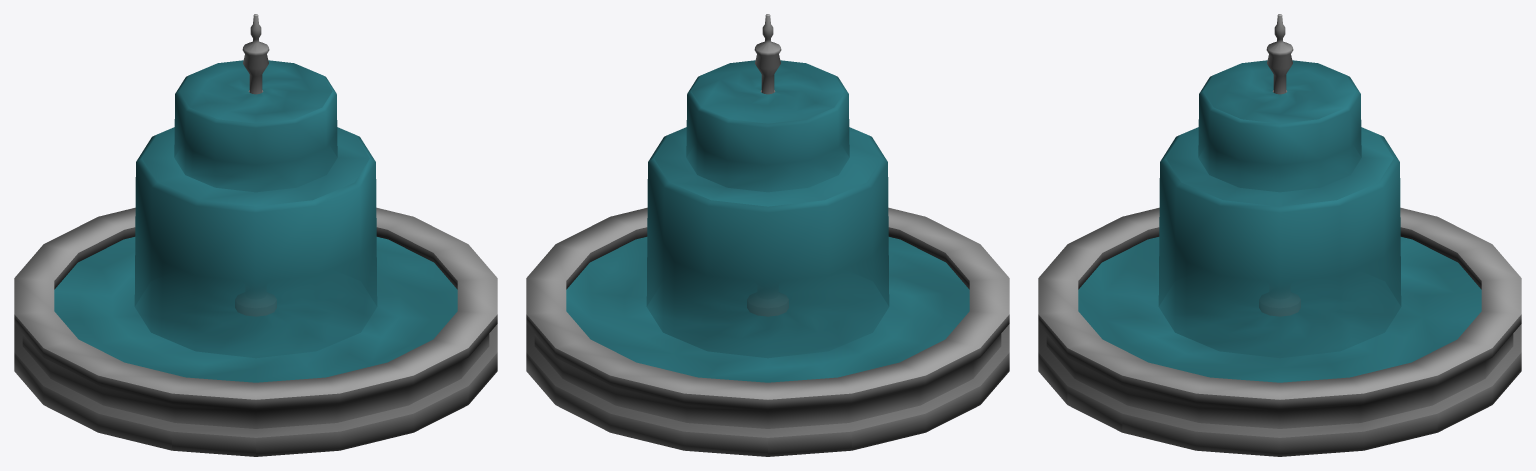
The model's file is furnishings-outdoor-waterfountain_v1.glb.
3 renders of one model, left to right at view 1: azimuth 30°, elevation 25°; view 2: azimuth 150°, elevation 25°; view 3: azimuth 270°, elevation 25°, orthographic.
Visible parts, largest first — view 1: WaterFountain_water, WaterFountain_base; view 2: WaterFountain_water, WaterFountain_base; view 3: WaterFountain_water, WaterFountain_base.
Boxes of the visible parts, bbox=[...] form: WaterFountain_water: bbox=[54, 60, 457, 382]; WaterFountain_base: bbox=[14, 14, 497, 456]; WaterFountain_water: bbox=[566, 60, 969, 382]; WaterFountain_base: bbox=[526, 14, 1009, 456]; WaterFountain_water: bbox=[1078, 60, 1481, 382]; WaterFountain_base: bbox=[1038, 14, 1521, 456].
Bounding box in the file's own units: 4.28 × 3.25 × 4.21.
